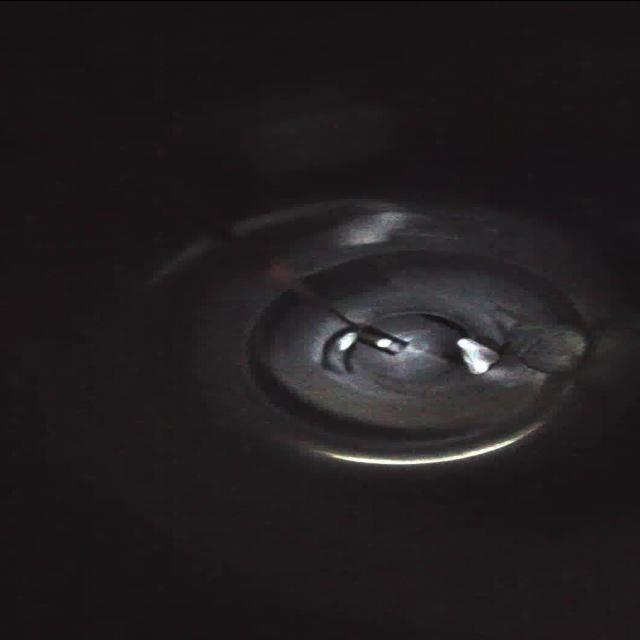impurity: (509, 320, 594, 375), (453, 334, 503, 376)
